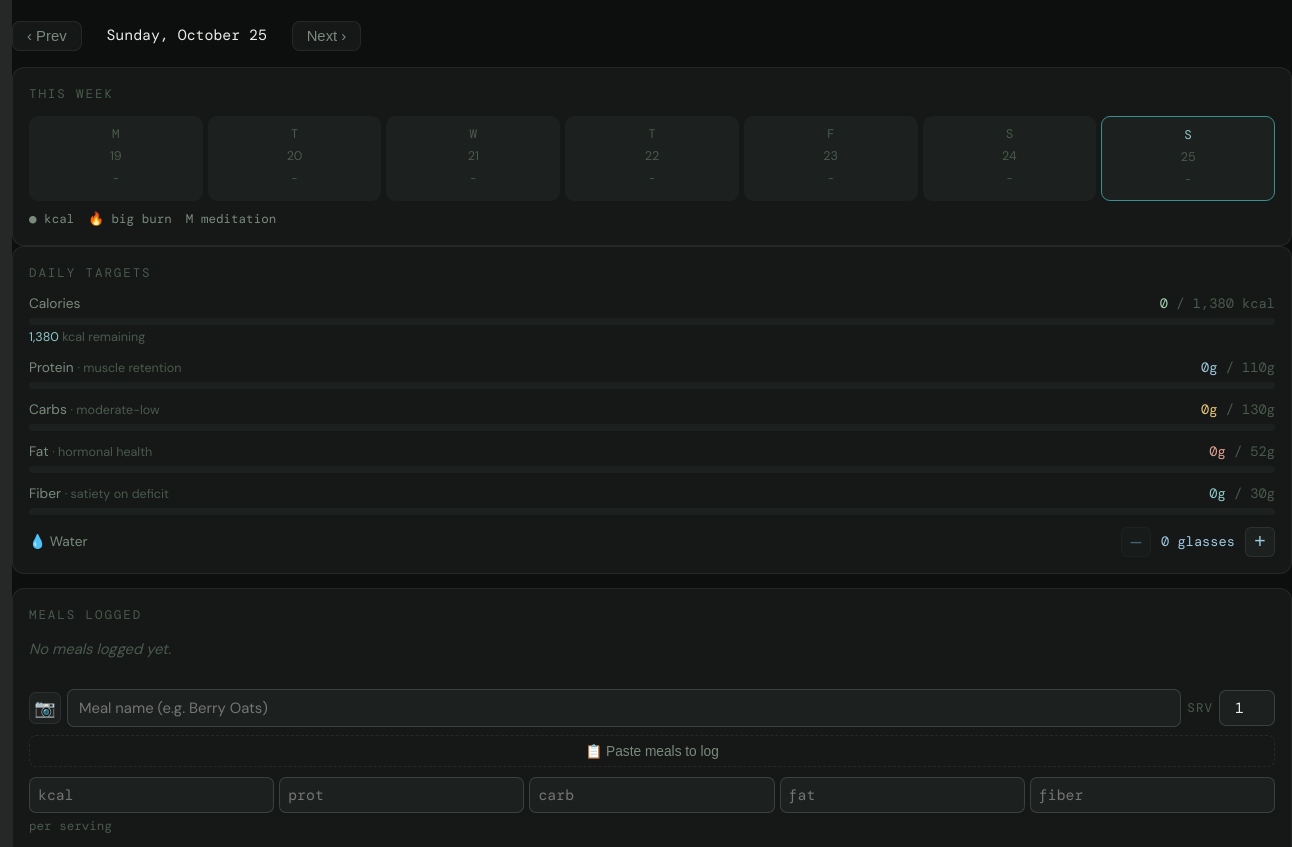
TrackerTab — food form edit/remove/quick-add › removes a logged food
In the field with placeholder "Meal name (e.g. Berry Oats)": (624, 708) [67,689,1181,727], type "Toast"
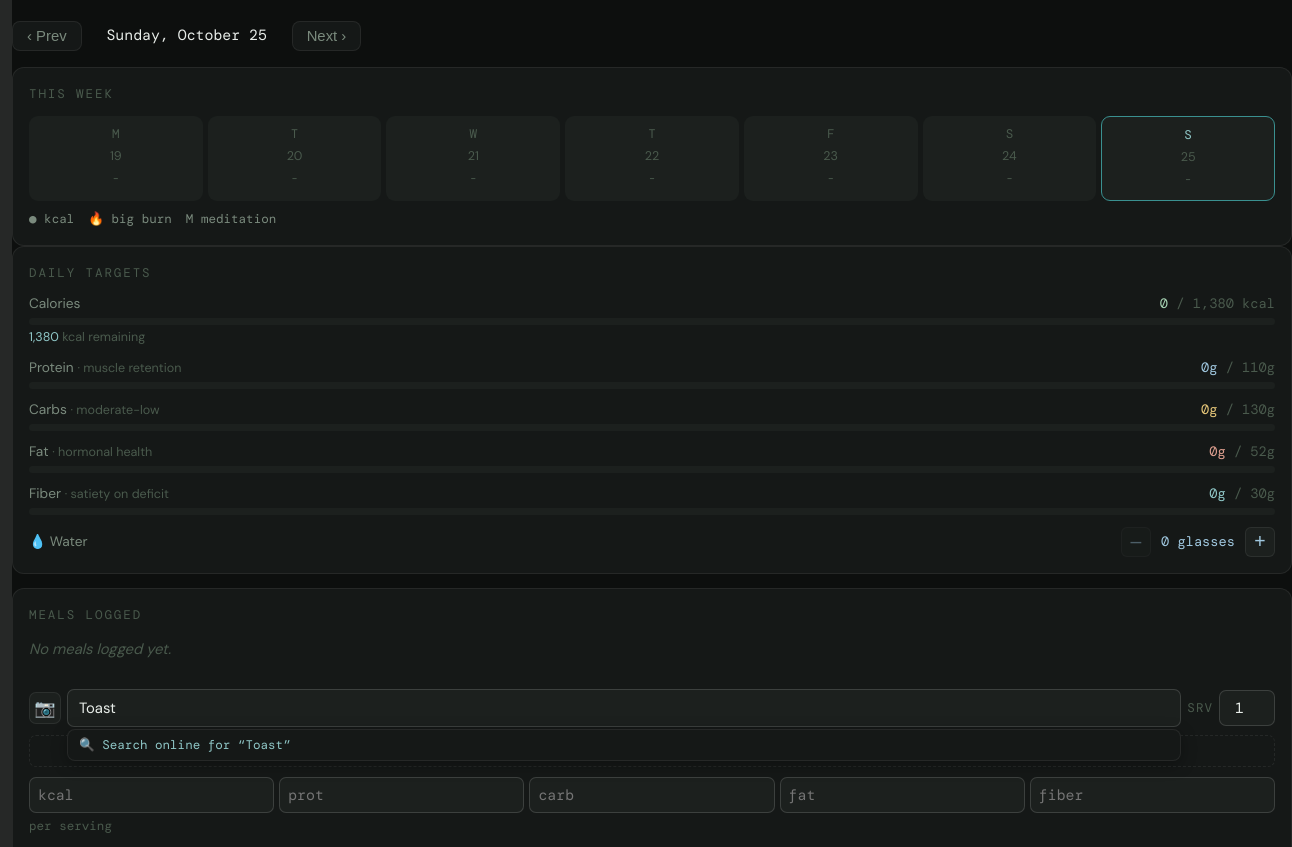
In the number field with placeholder "kcal": (152, 795) [29,777,274,813], type "120"
(page scrolled)
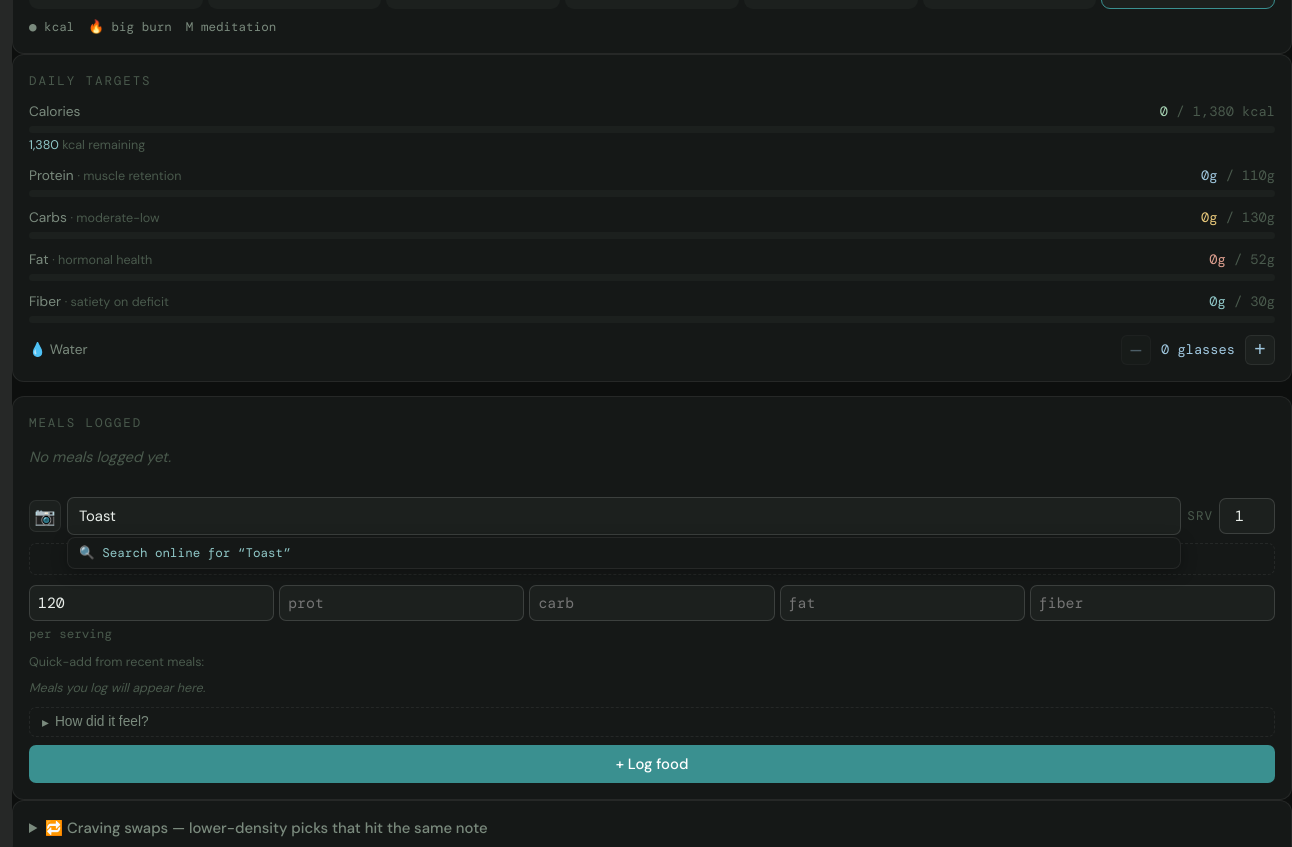
Click the button "+ Log food": (652, 764) [29,745,1275,783]
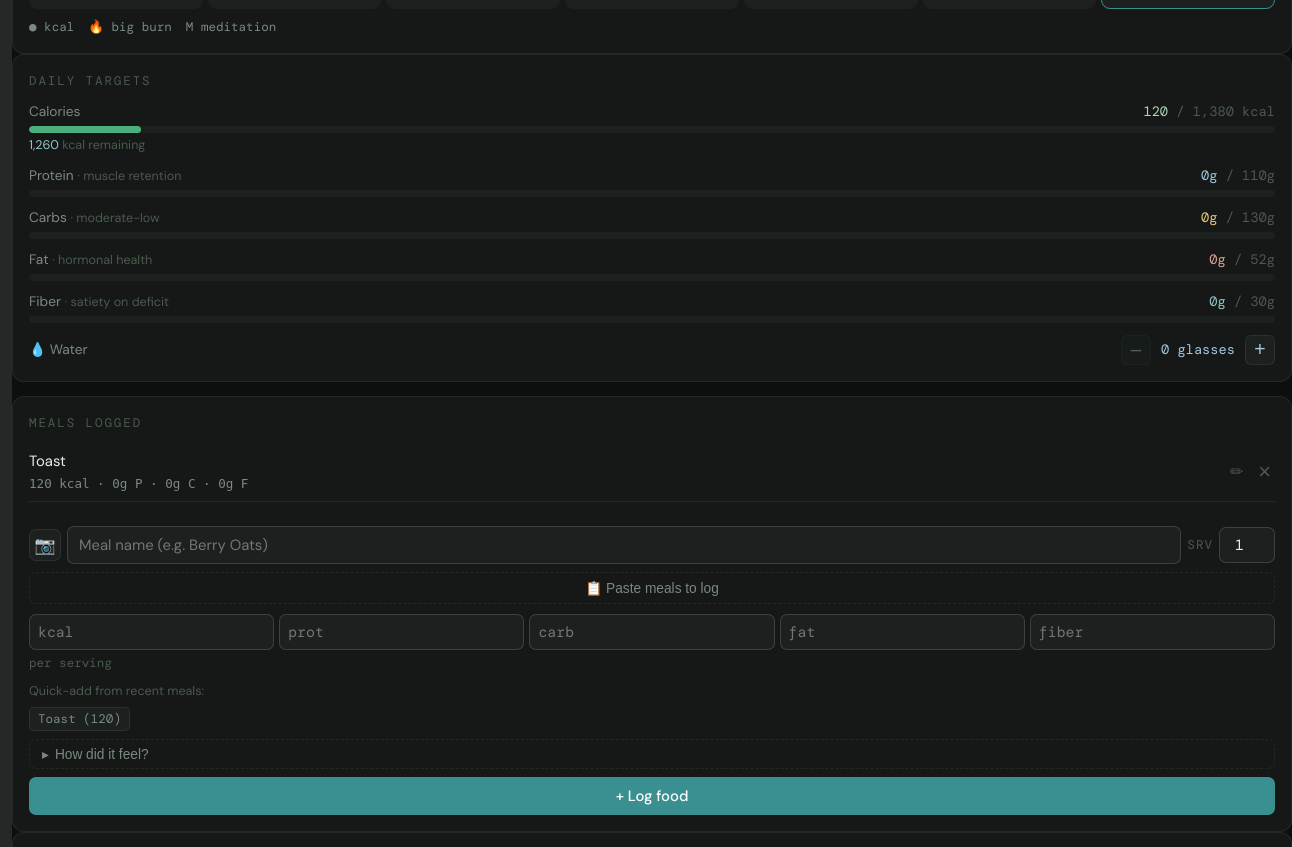
Check: the text "Toast" is shown, box [29,451,66,471]
Click the button with class "food-remove-btn": (1265, 472) [1254,461,1275,483]
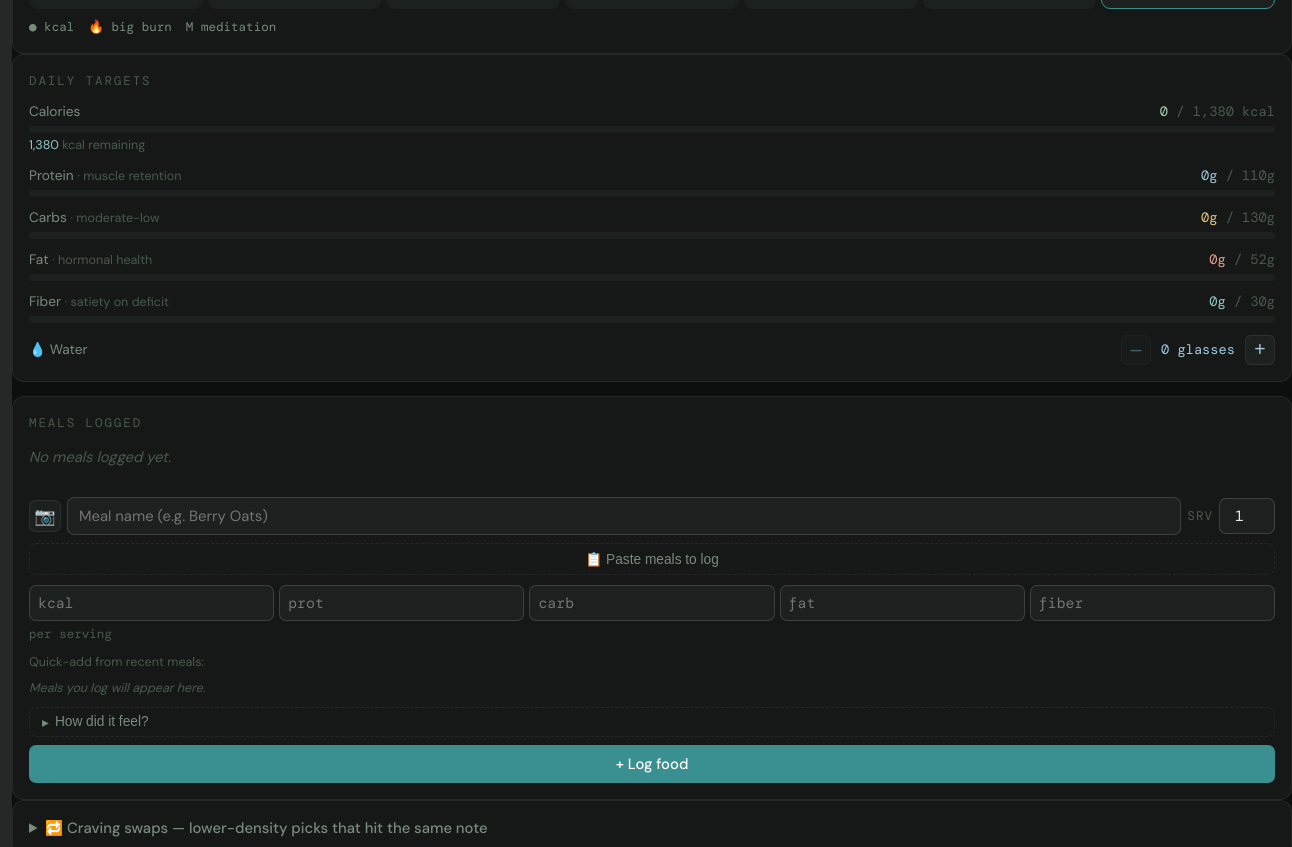
Check: the text "Toast" is gone
